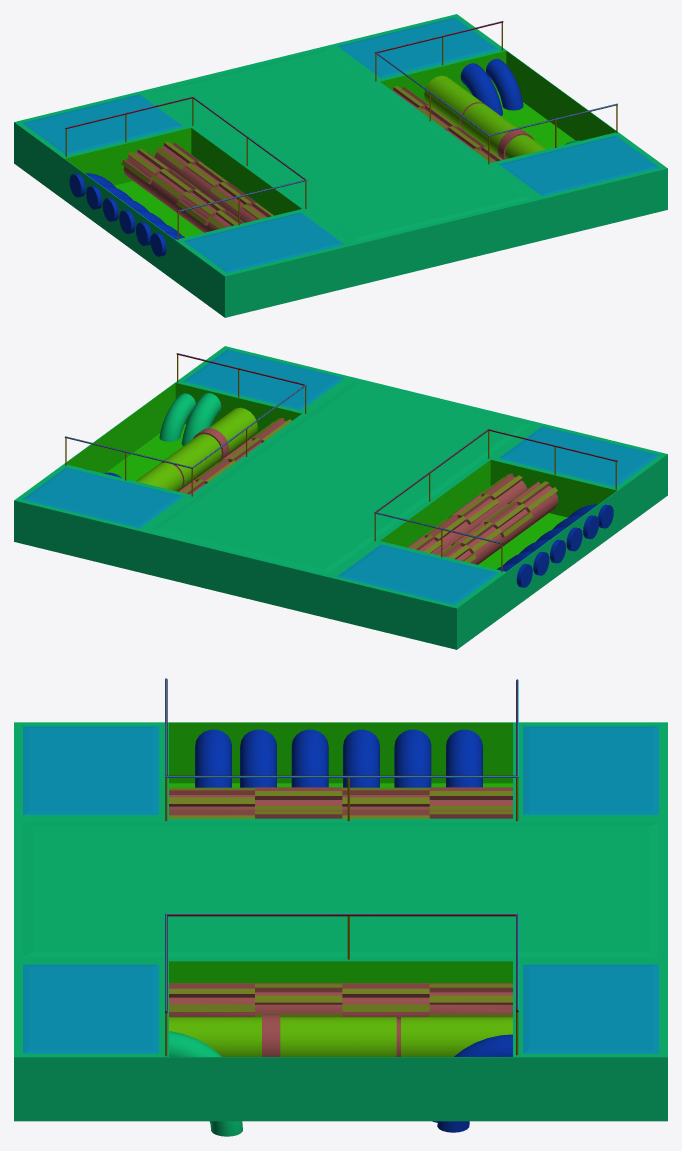
File: Petit couloir sas.FBX
3 renders of one model, top to bottom at view 1: azimuth 30°, elevation 25°; view 2: azimuth 150°, elevation 25°; view 3: azimuth 270°, elevation 25°, orthographic. The views are drawn at different scales.
Visible parts, largest first — view 1: CouloirSas; view 2: CouloirSas; view 3: CouloirSas.
Part boxes in pixels (box(x1,y1,x2,y2)): CouloirSas: box(14, 14, 667, 317); CouloirSas: box(14, 346, 667, 649); CouloirSas: box(14, 678, 667, 1136).
Size of the model in its own units: 1516 by 274 by 1239.
